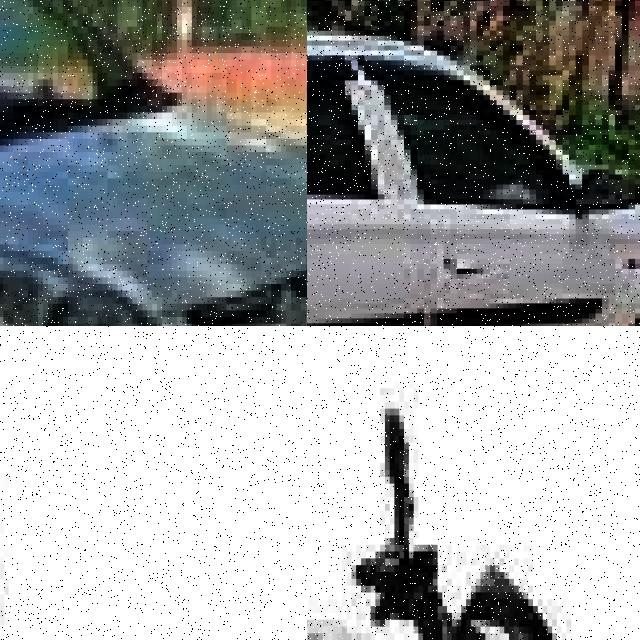bike: (307, 408, 640, 640), (0, 326, 175, 640)
car: (307, 6, 640, 326), (0, 0, 307, 326)
